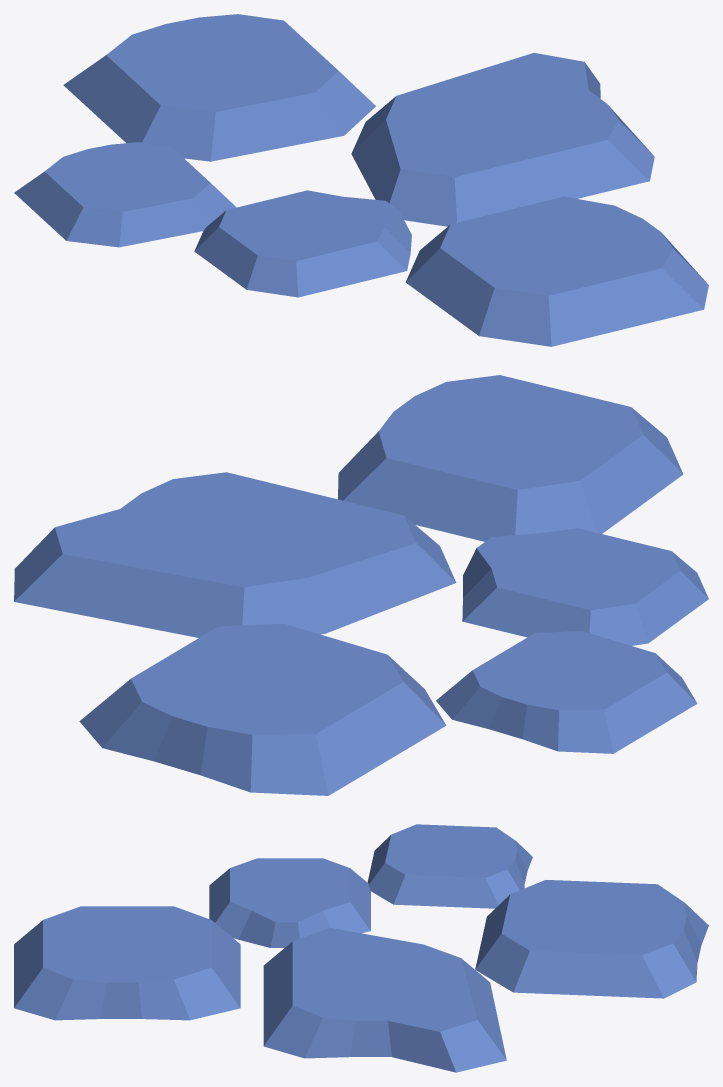
File: SP_Stone02.fbx
3 views of the same model, one above another, from view 1: azimuth 30°, elevation 25°; view 2: azimuth 150°, elevation 25°; view 3: azimuth 270°, elevation 25° (orthographic). The views are drawn at different scales.
Visible parts, largest first — view 1: SP_Stone02; view 2: SP_Stone02; view 3: SP_Stone02.
Part boxes in pixels (left/top/right/bottom): SP_Stone02: left=14, top=14, right=708, bottom=346; SP_Stone02: left=14, top=375, right=708, bottom=795; SP_Stone02: left=14, top=824, right=708, bottom=1072.
Bounding box in the file's own units: 22.98 × 1.38 × 28.63.
Materials: 1 (1 with a texture image).
